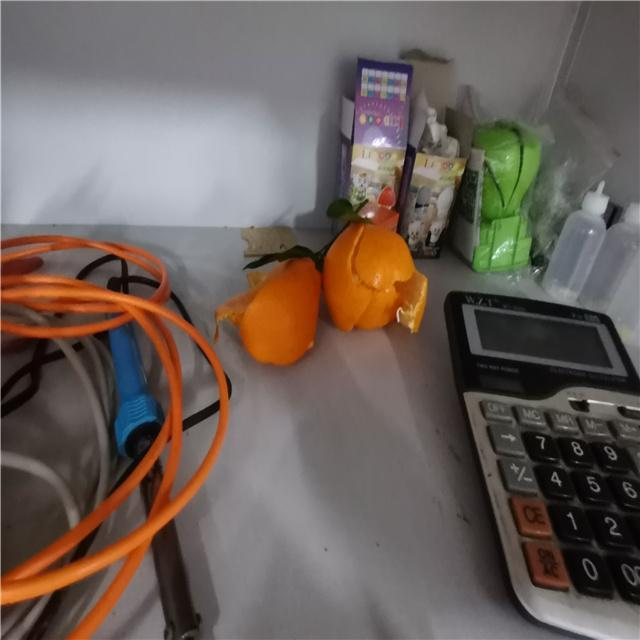orange-peel: (221, 218, 430, 371)
